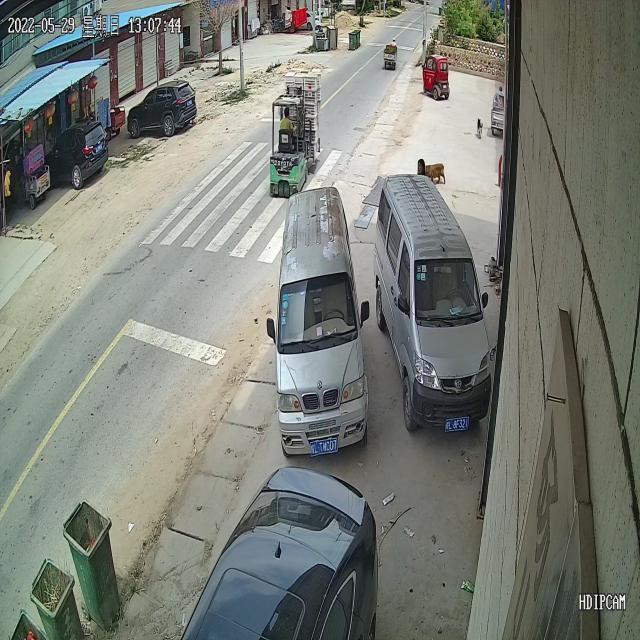forklift: (266, 93, 309, 198)
